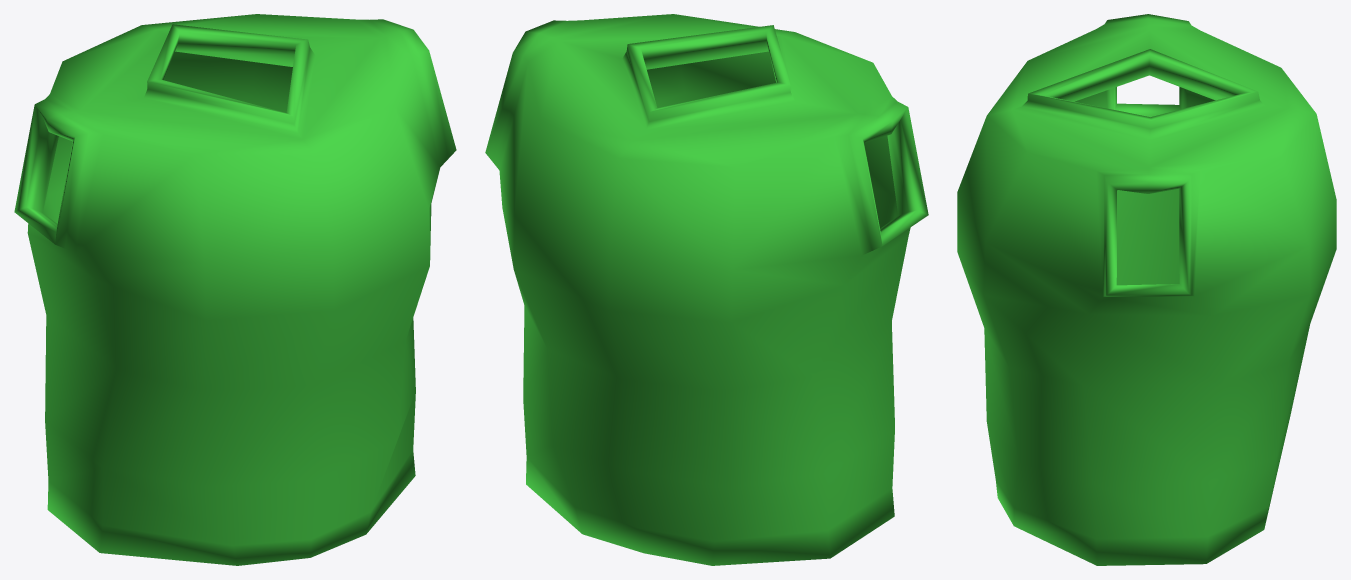
File: armor2.fbx
3 renders of one model, left to right at view 1: azimuth 30°, elevation 25°; view 2: azimuth 150°, elevation 25°; view 3: azimuth 270°, elevation 25°, orthographic. The views are drawn at different scales.
Parts seen in each view (by area): view 1: body; view 2: body; view 3: body.
Boxes of the visible parts, x1,y1,x2,y2 form: body: (14,14,456,565); body: (485,14,928,565); body: (957,14,1336,565).
Size of the model in its own units: 68.6 by 72.3 by 59.68.
